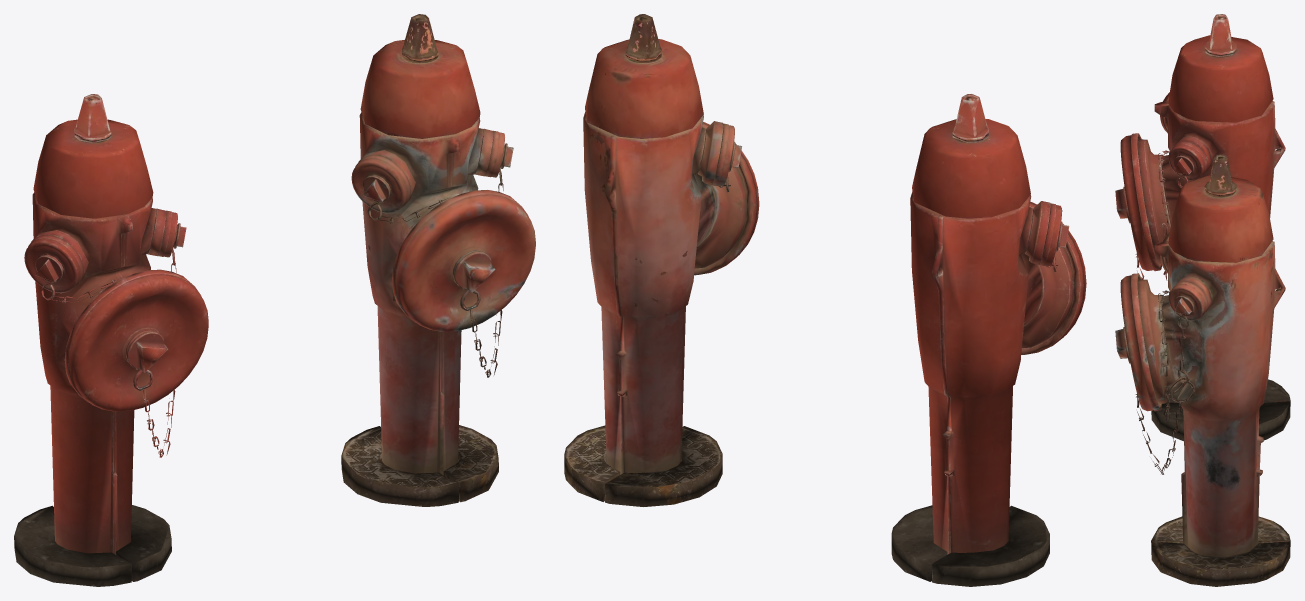
Rendered from fire_hydrant.glb.
The picture shows the model from 3 angles, left to right: view 1: azimuth 30°, elevation 25°; view 2: azimuth 150°, elevation 25°; view 3: azimuth 270°, elevation 25°; orthographic projection. The views are drawn at different scales.
Parts seen in each view (by area): view 1: fire_hydrant_aged, fire_hydrant, fire_hydrant_cap_01, fire_hydrant_cap_01_aged, fire_hydrant_cap_03, fire_hydrant_cap_03_aged, fire_hydrant_chain_aged, fire_hydrant_chain, fire_hydrant_cap_02, fire_hydrant_cap_02_aged; view 2: fire_hydrant_aged, fire_hydrant, fire_hydrant_cap_01, fire_hydrant_cap_01_aged, fire_hydrant_cap_03_aged, fire_hydrant_cap_03; view 3: fire_hydrant_aged, fire_hydrant, fire_hydrant_cap_01, fire_hydrant_cap_01_aged, fire_hydrant_chain_aged, fire_hydrant_cap_02_aged, fire_hydrant_cap_02, fire_hydrant_chain.
Part boxes in pixels (bbox=[...]): fire_hydrant_aged: bbox=[341, 14, 498, 506]; fire_hydrant: bbox=[14, 94, 171, 586]; fire_hydrant_cap_01: bbox=[64, 269, 208, 411]; fire_hydrant_cap_01_aged: bbox=[392, 190, 535, 331]; fire_hydrant_cap_03: bbox=[24, 235, 83, 293]; fire_hydrant_cap_03_aged: bbox=[351, 155, 410, 213]; fire_hydrant_chain_aged: bbox=[367, 145, 504, 377]; fire_hydrant_chain: bbox=[40, 224, 177, 457]; fire_hydrant_cap_02: bbox=[158, 210, 186, 257]; fire_hydrant_cap_02_aged: bbox=[485, 130, 513, 177]; fire_hydrant_aged: bbox=[564, 14, 747, 506]; fire_hydrant: bbox=[891, 94, 1074, 586]; fire_hydrant_cap_01: bbox=[1021, 201, 1086, 354]; fire_hydrant_cap_01_aged: bbox=[694, 122, 759, 275]; fire_hydrant_cap_03_aged: bbox=[711, 123, 741, 186]; fire_hydrant_cap_03: bbox=[1038, 203, 1069, 266]; fire_hydrant_aged: bbox=[1138, 154, 1290, 586]; fire_hydrant: bbox=[1138, 14, 1290, 441]; fire_hydrant_cap_01: bbox=[1115, 133, 1161, 271]; fire_hydrant_cap_01_aged: bbox=[1115, 273, 1161, 411]; fire_hydrant_chain_aged: bbox=[1135, 290, 1195, 474]; fire_hydrant_cap_02_aged: bbox=[1168, 281, 1208, 320]; fire_hydrant_cap_02: bbox=[1168, 141, 1208, 180]; fire_hydrant_chain: bbox=[1135, 150, 1193, 280].
Size of the model in its own units: 0.8746 by 0.7992 by 0.3173.
2 materials, 2 textured.
